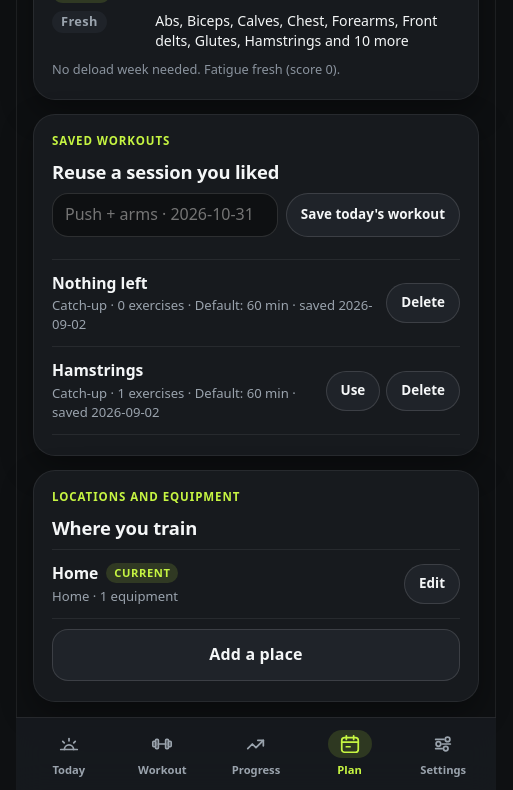
Test: a saved copy with nothing to start today, on the Plan screen › has no Use with no exercise in it, and says today’s plan stays where the check-in empties it
(page scrolled)
Expected: the number of list items with test id "saved-workout-row" is 2, x1=52 y1=260 x2=460 y2=347; x1=52 y1=347 x2=460 y2=435
Click the button with test id "use-saved-workout".
click(353, 391)  # box x1=326 y1=371 x2=380 y2=411
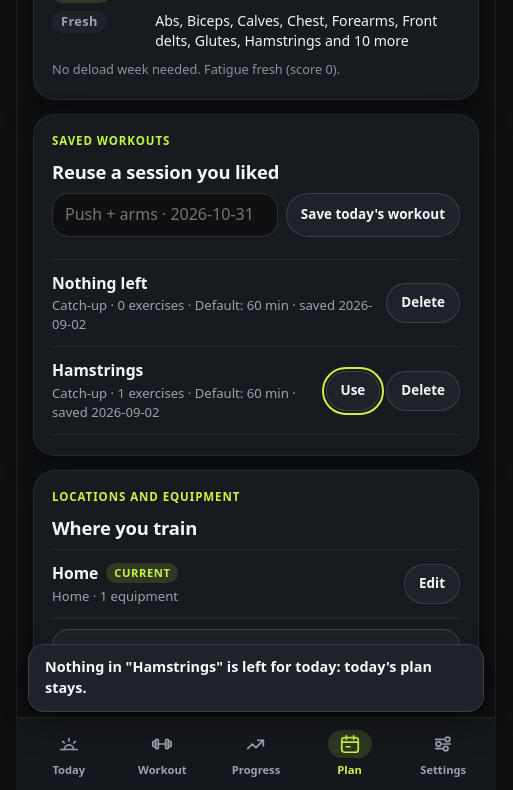
Expected: the text "Nothing in \"Hamstrings\" is left for today: today's plan stays." is shown, x1=28 y1=644 x2=484 y2=712
